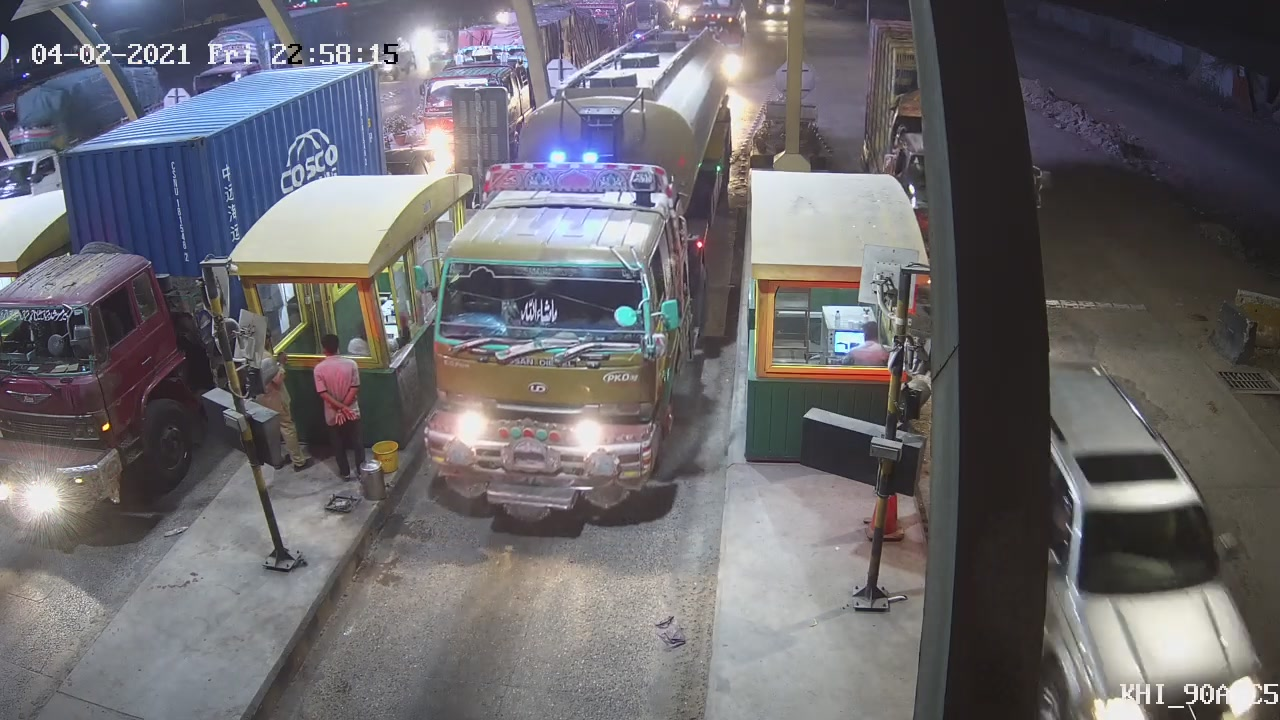F6: (411, 23, 736, 530)
